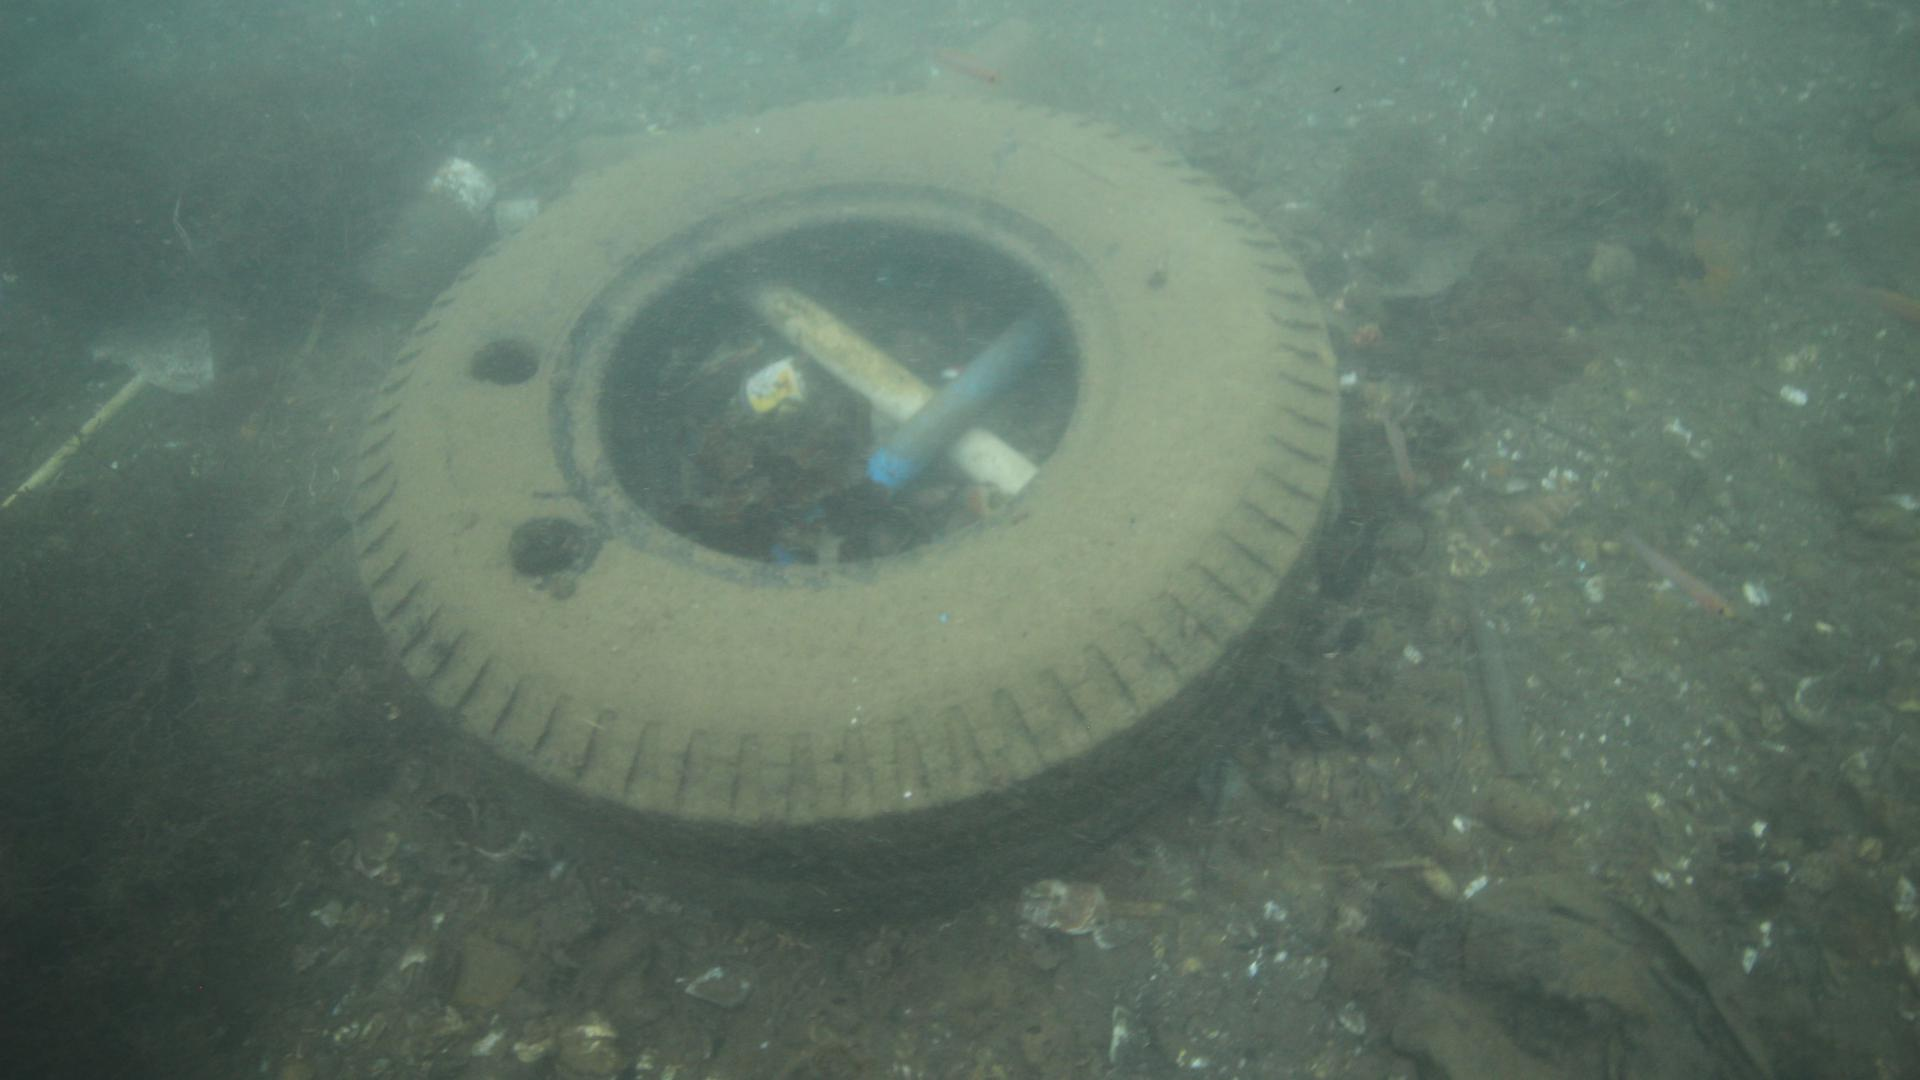tire: (349, 94, 1342, 938)
